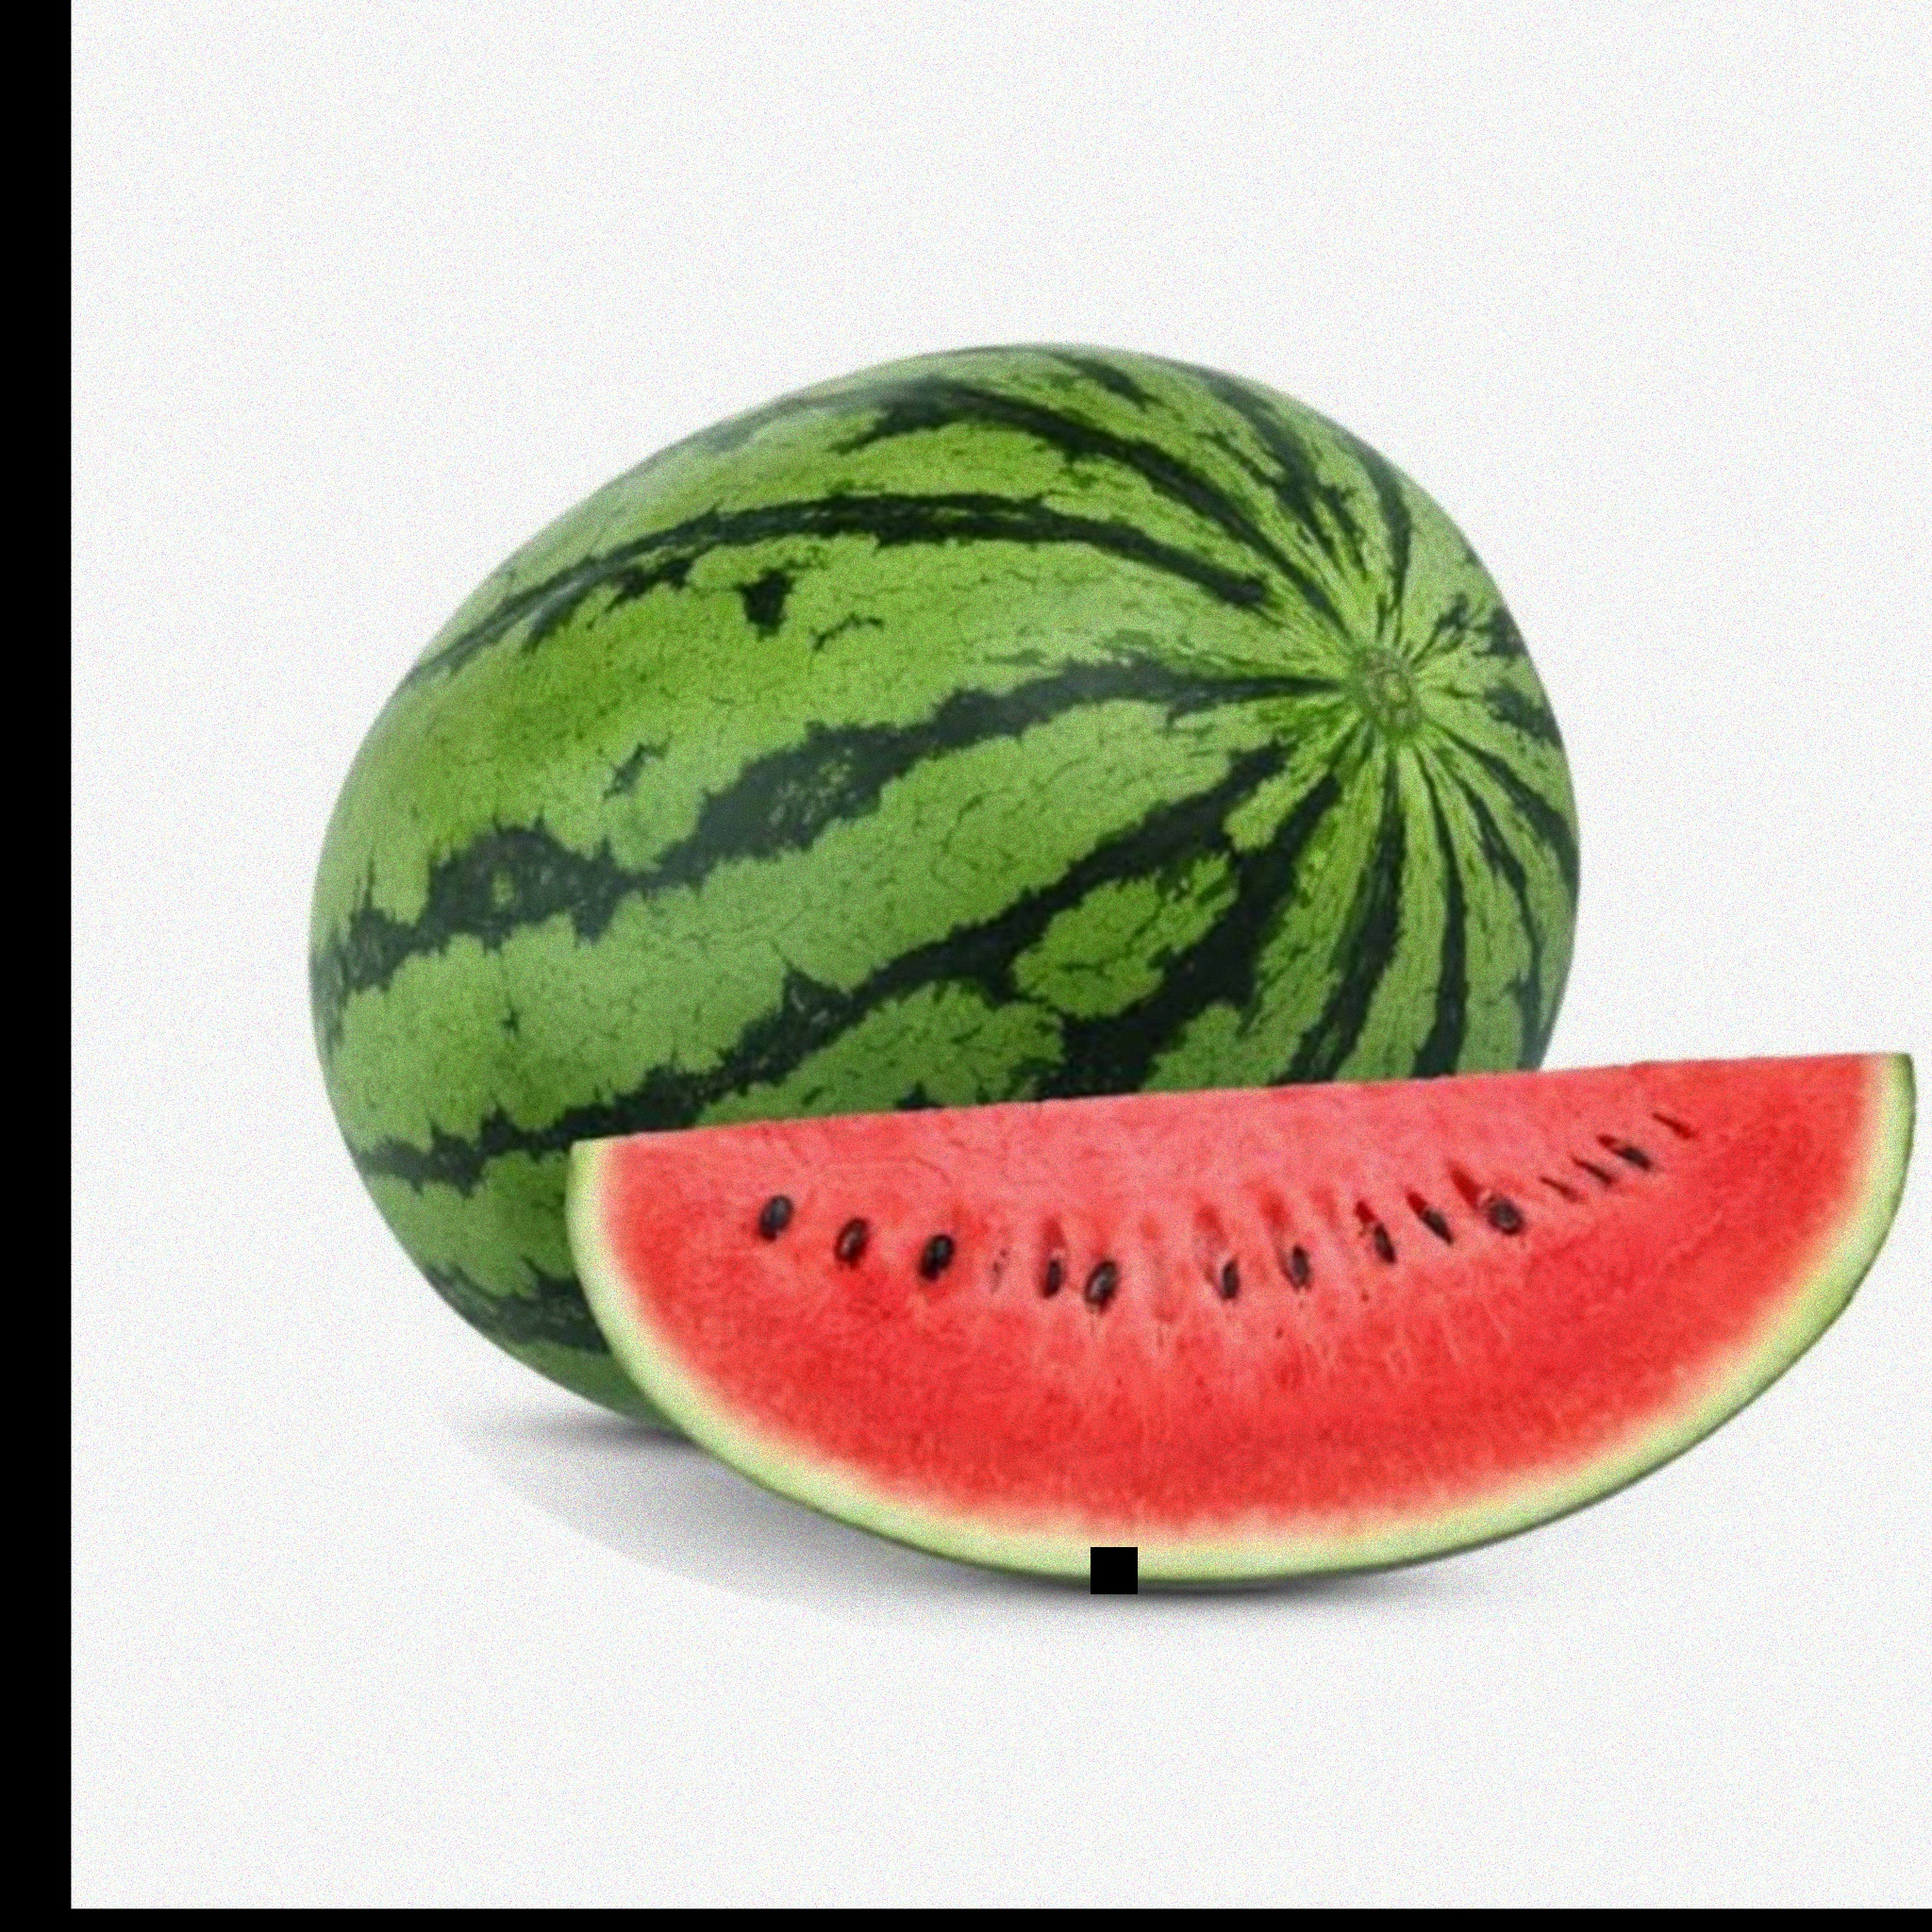watermelon: (262, 345, 1670, 1468)
